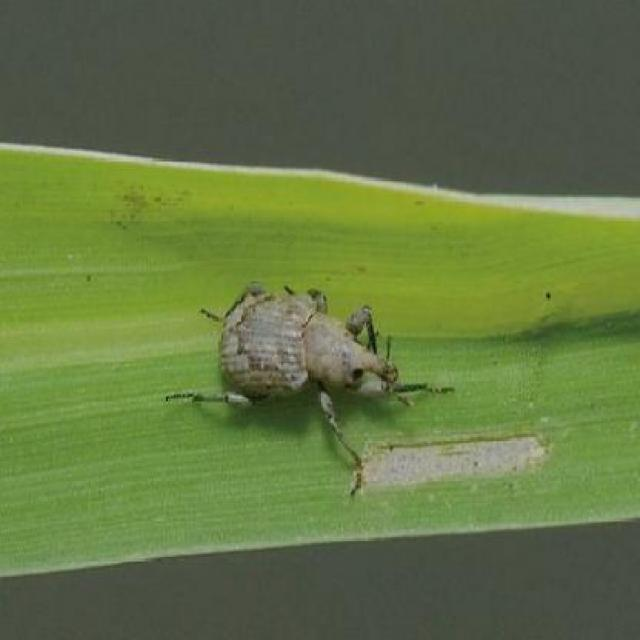rice-bug: (198, 276, 416, 456)
